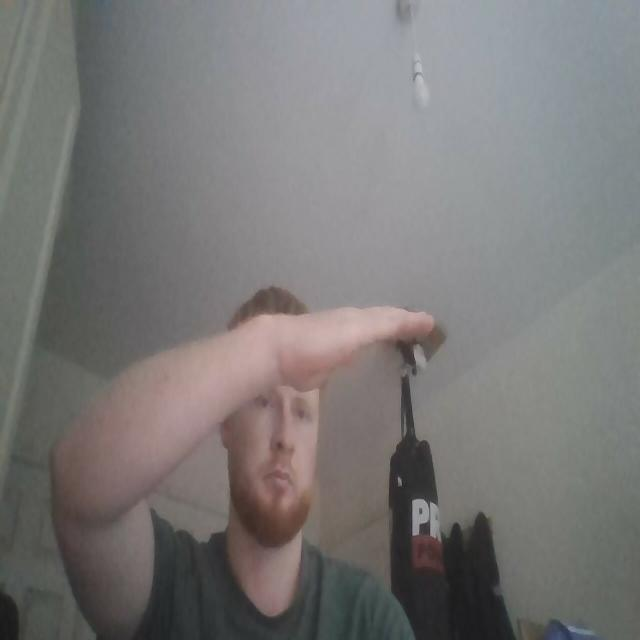papper: (252, 303, 436, 392)
